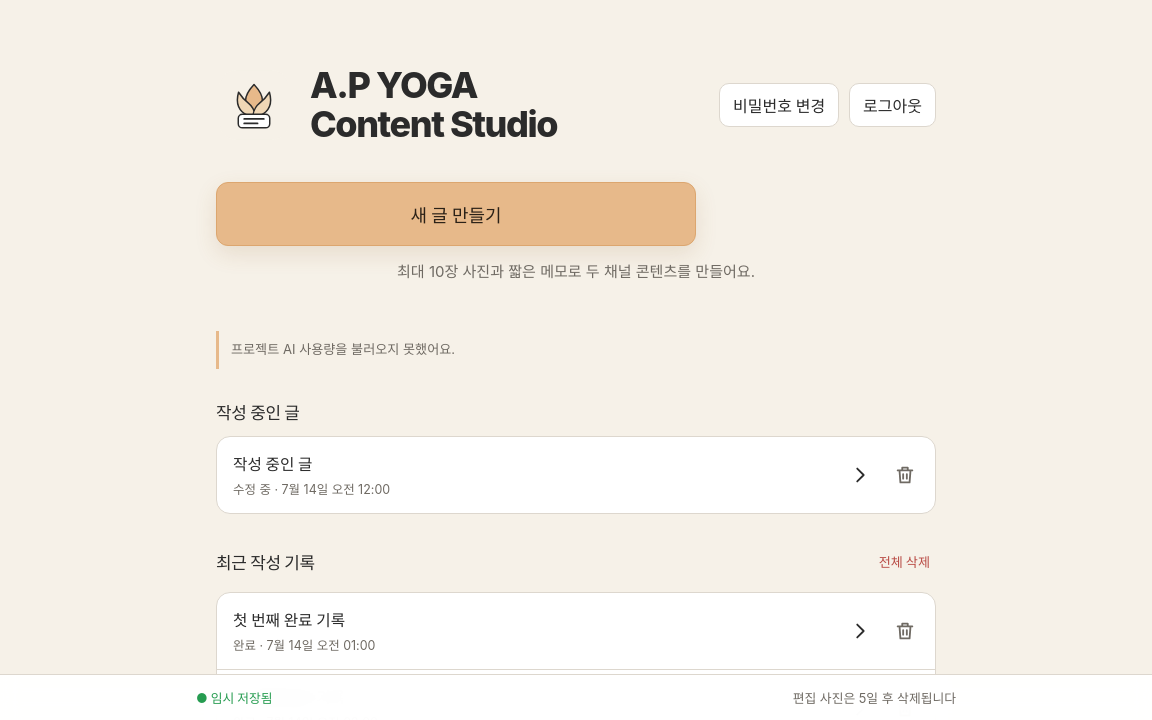
it: history deletion › clears completed history while preserving an active draft
Expected: the text "두 번째 완료 기록" is shown, [233,688,345,707]
What coordinates should you click on to do the following:
click the button "전체 삭제"
I would click on:
 (904, 562)
Its box is [873,544,936,580].
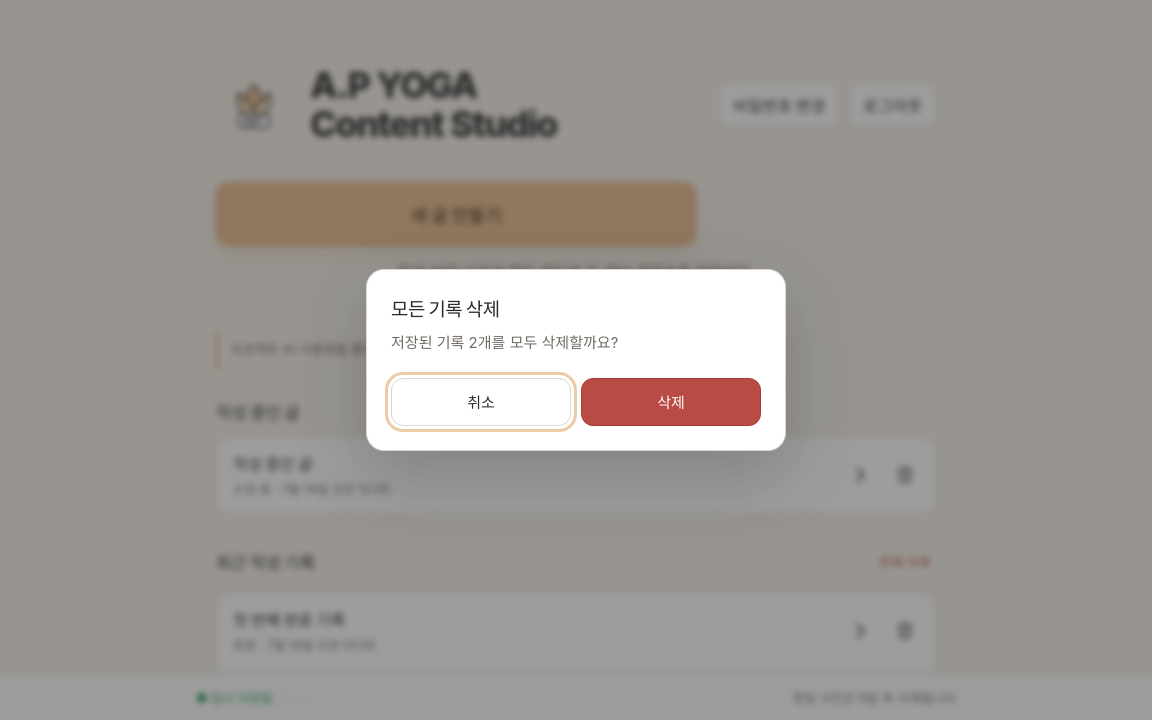
Expected: the dialog shows "저장된 기록 2개를 모두 삭제할까요?", [391,334,618,352]
What coordinates should you click on to do the following:
click the button "삭제"
I would click on:
 (671, 402)
Its box is [581,378,761,426].
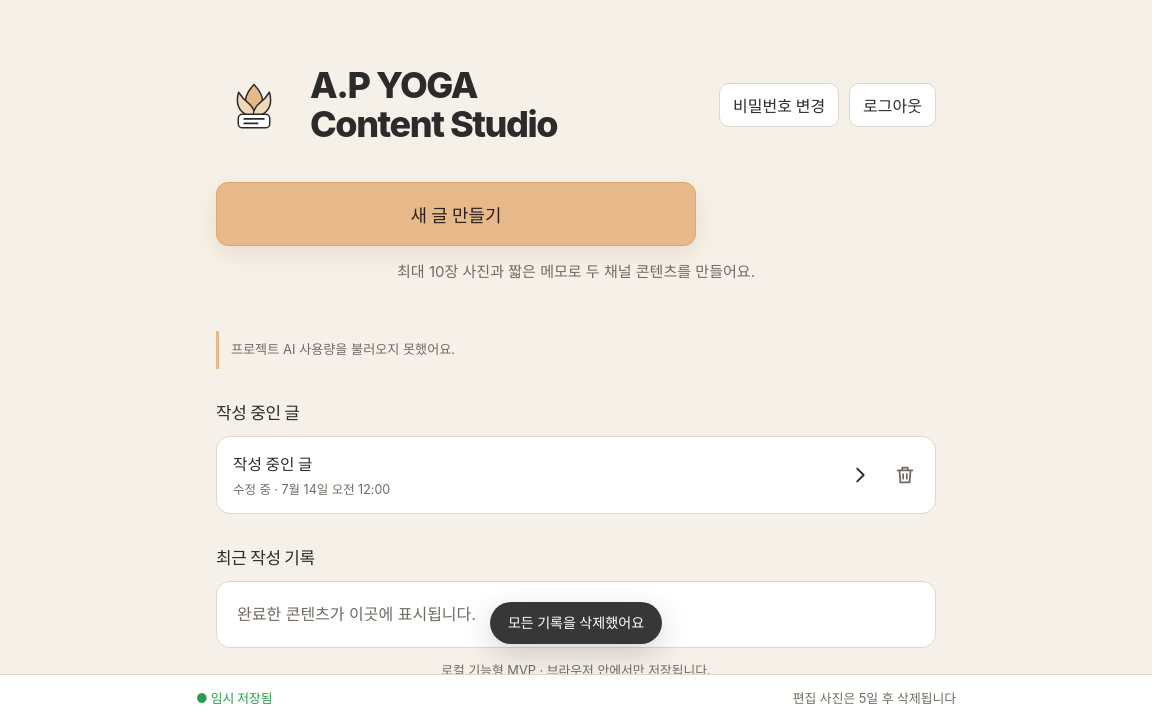
Expected: the link "작성 중인 글" is shown, [233,455,871,497]
Expected: the text "완료한 콘텐츠가 이곳에 표시됩니다." is shown, [216,581,936,648]
Expected: the message reads "모든 기록을 삭제했어요", [508,614,644,631]
